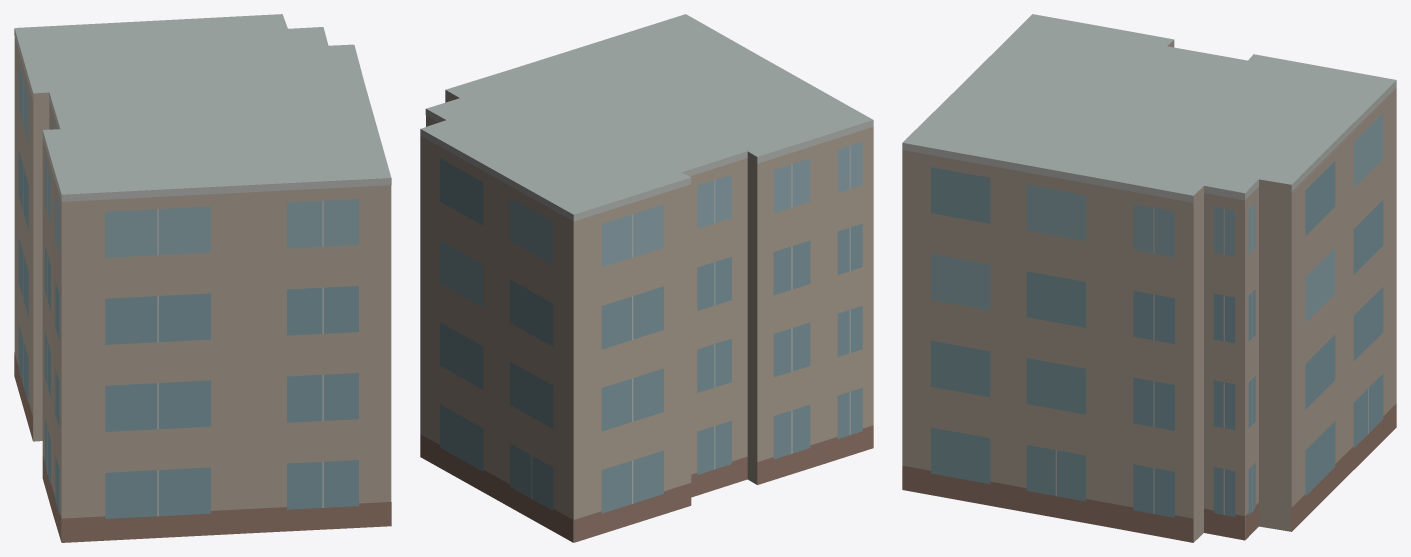
The model's file is survey-upis-32982336.glb.
3 renders of one model, left to right at view 1: azimuth 30°, elevation 25°; view 2: azimuth 150°, elevation 25°; view 3: azimuth 270°, elevation 25°, orthographic. The views are drawn at different scales.
Visible parts, largest first — view 1: survey-upis-32982336.tmp; view 2: survey-upis-32982336.tmp; view 3: survey-upis-32982336.tmp.
Part boxes in pixels (x1,y1,x2,y2): survey-upis-32982336.tmp: (14, 14, 391, 542); survey-upis-32982336.tmp: (420, 14, 873, 542); survey-upis-32982336.tmp: (902, 14, 1396, 542).
Bounding box in the file's own units: 13.26 × 11.8 × 15.24.
